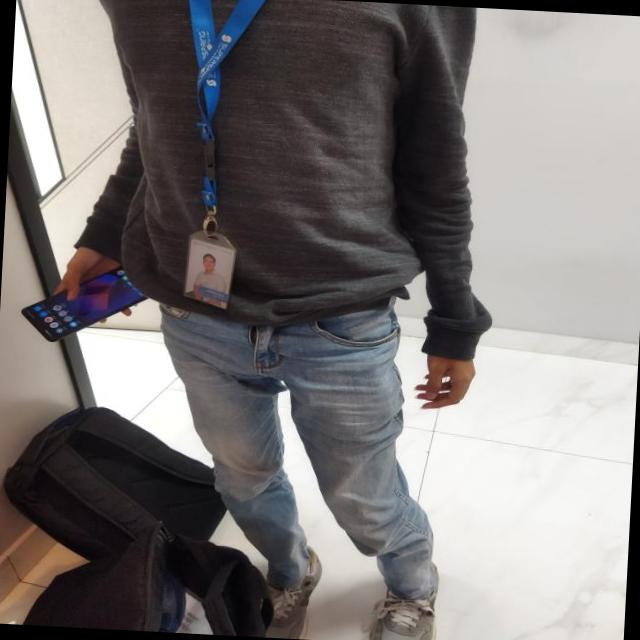id_card: (164, 0, 285, 315)
